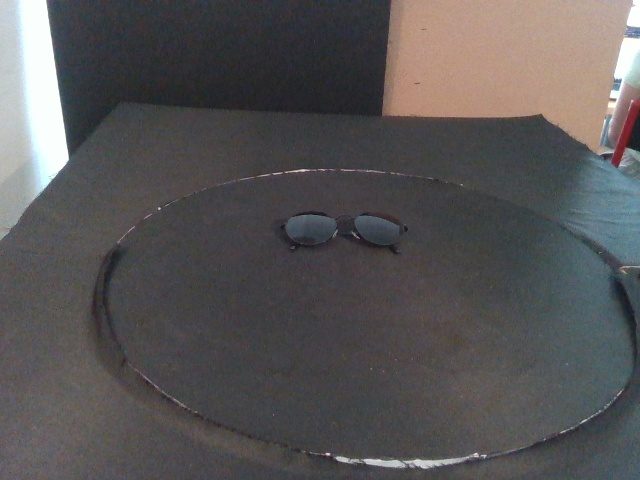glasses: (279, 210, 409, 255)
